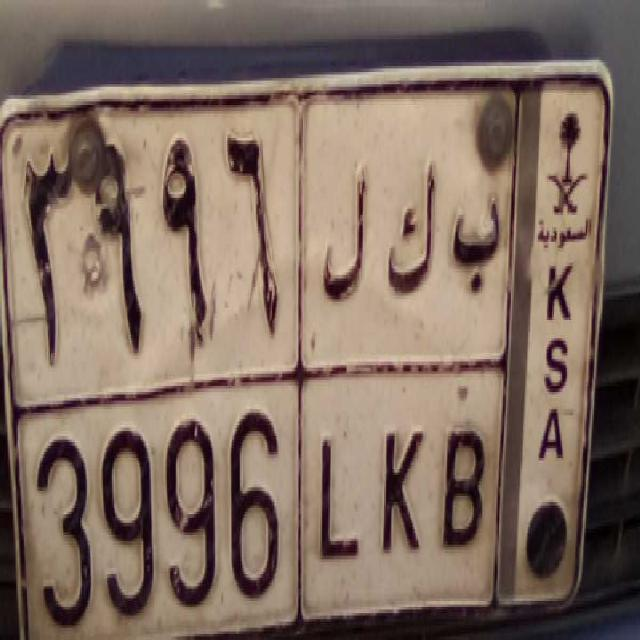license_plate: (32, 371, 487, 631)
